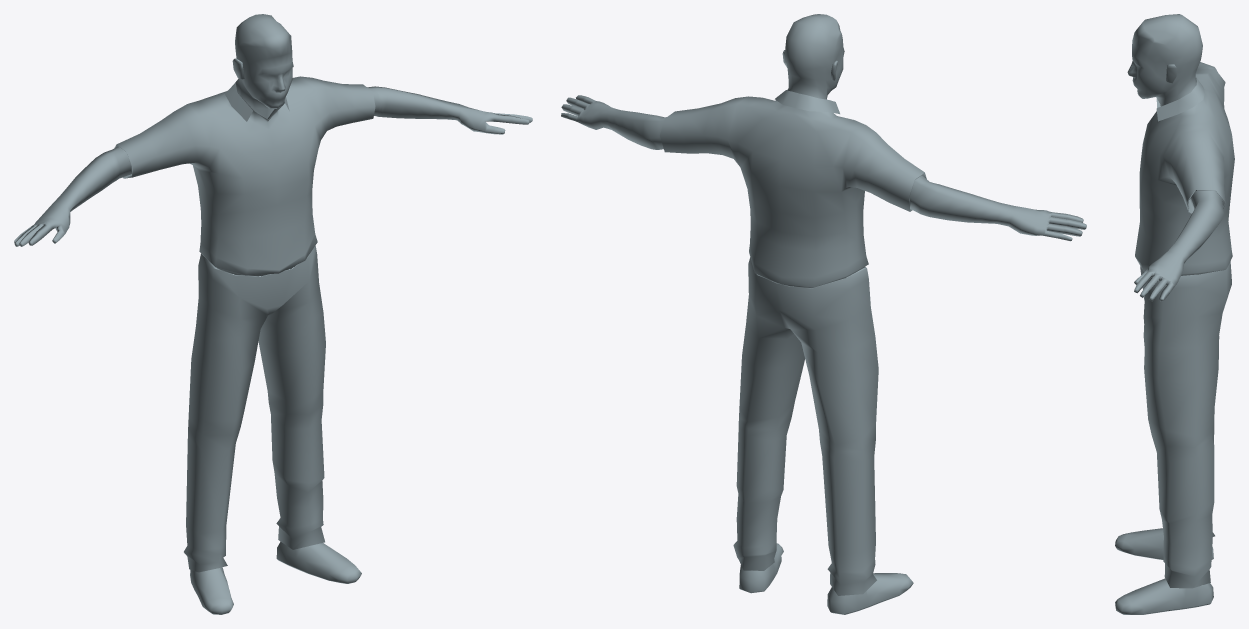
Rendered from SM_MaleMedic_01.fbx.
The picture shows the model from 3 angles, left to right: view 1: azimuth 30°, elevation 25°; view 2: azimuth 150°, elevation 25°; view 3: azimuth 270°, elevation 25°; orthographic projection.
Parts seen in each view (by area): view 1: SM_MaleMedic_01; view 2: SM_MaleMedic_01; view 3: SM_MaleMedic_01.
Boxes of the visible parts, bbox=[...] form: SM_MaleMedic_01: bbox=[14, 14, 532, 614]; SM_MaleMedic_01: bbox=[561, 14, 1086, 614]; SM_MaleMedic_01: bbox=[1115, 14, 1234, 614].
Size of the model in its own units: 171 by 178 by 34.47.
